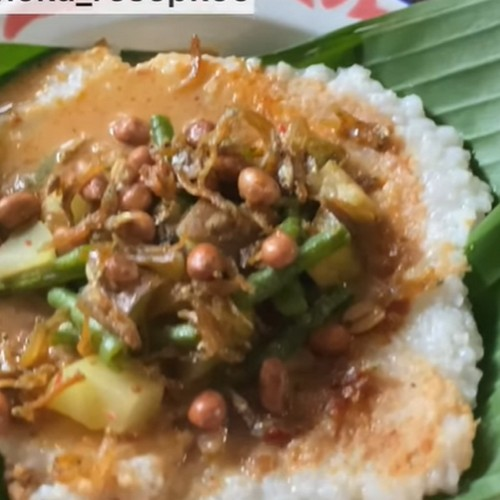ayam betutu: (8, 68, 459, 474)
bubur mengguh: (3, 74, 463, 496)
